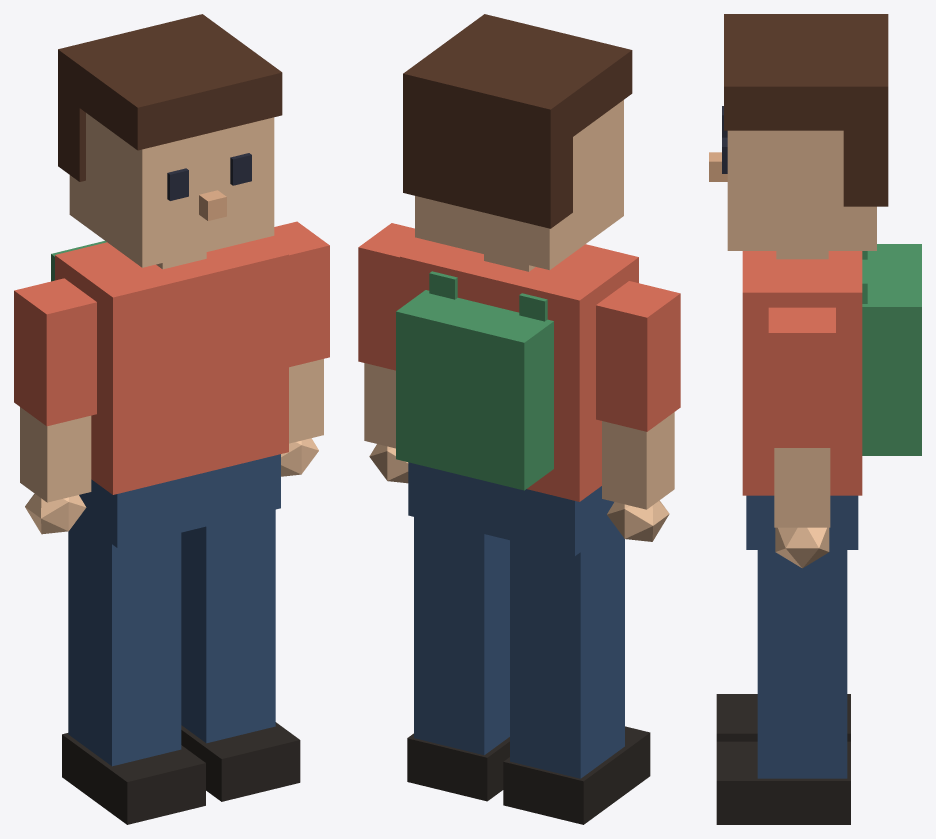
The model's file is personaje.glb.
3 views of the same model, side by side, from view 1: azimuth 30°, elevation 25°; view 2: azimuth 150°, elevation 25°; view 3: azimuth 270°, elevation 25° (orthographic). The views are drawn at different scales.
Visible parts, largest first — view 1: cuerpo, cabeza, pierna_der, pierna_izq, brazo_der, brazo_izq; view 2: cuerpo, cabeza, pierna_der, pierna_izq, brazo_der, brazo_izq; view 3: cabeza, cuerpo, pierna_izq, brazo_izq, pierna_der.
Boxes of the visible parts, <box> form: cuerpo: <box>51,237,288,547</box>; cabeza: <box>58,14,282,269</box>; pierna_der: <box>62,513,205,824</box>; pierna_izq: <box>181,509,300,801</box>; brazo_der: <box>14,278,96,534</box>; brazo_izq: <box>266,221,329,476</box>; cuerpo: <box>396,239,638,555</box>; cabeza: <box>403,14,632,271</box>; pierna_der: <box>503,520,650,824</box>; pierna_izq: <box>407,517,509,801</box>; brazo_der: <box>596,281,680,541</box>; brazo_izq: <box>358,223,423,483</box>; cabeza: <box>709,14,888,259</box>; cuerpo: <box>742,244,921,549</box>; pierna_izq: <box>716,540,850,824</box>; brazo_izq: <box>768,307,835,568</box>; pierna_der: <box>716,694,850,741</box>.
Size of the model in its own units: 0.9 by 2.16 by 0.57.
